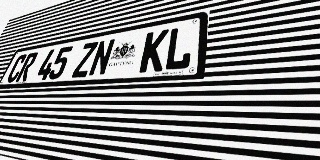4: (35, 48, 60, 81)
5: (47, 46, 73, 80)
C: (5, 54, 28, 83)
K: (138, 29, 169, 73)
L: (163, 24, 195, 71)
N: (88, 38, 116, 77)
R: (15, 52, 39, 82)
Z: (71, 41, 99, 78)
